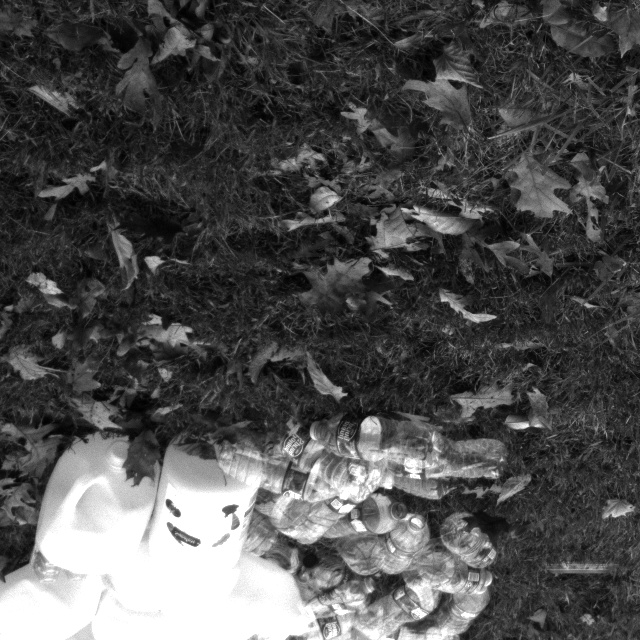bottle: (307, 412, 444, 473), (216, 441, 338, 509), (285, 464, 378, 550), (350, 572, 442, 640), (382, 437, 505, 486), (316, 488, 411, 544), (369, 506, 430, 585), (416, 548, 501, 601), (437, 508, 499, 575), (431, 578, 491, 640)
can: (139, 430, 264, 587), (34, 433, 160, 573), (177, 563, 298, 640), (0, 562, 108, 640), (90, 572, 193, 640)
